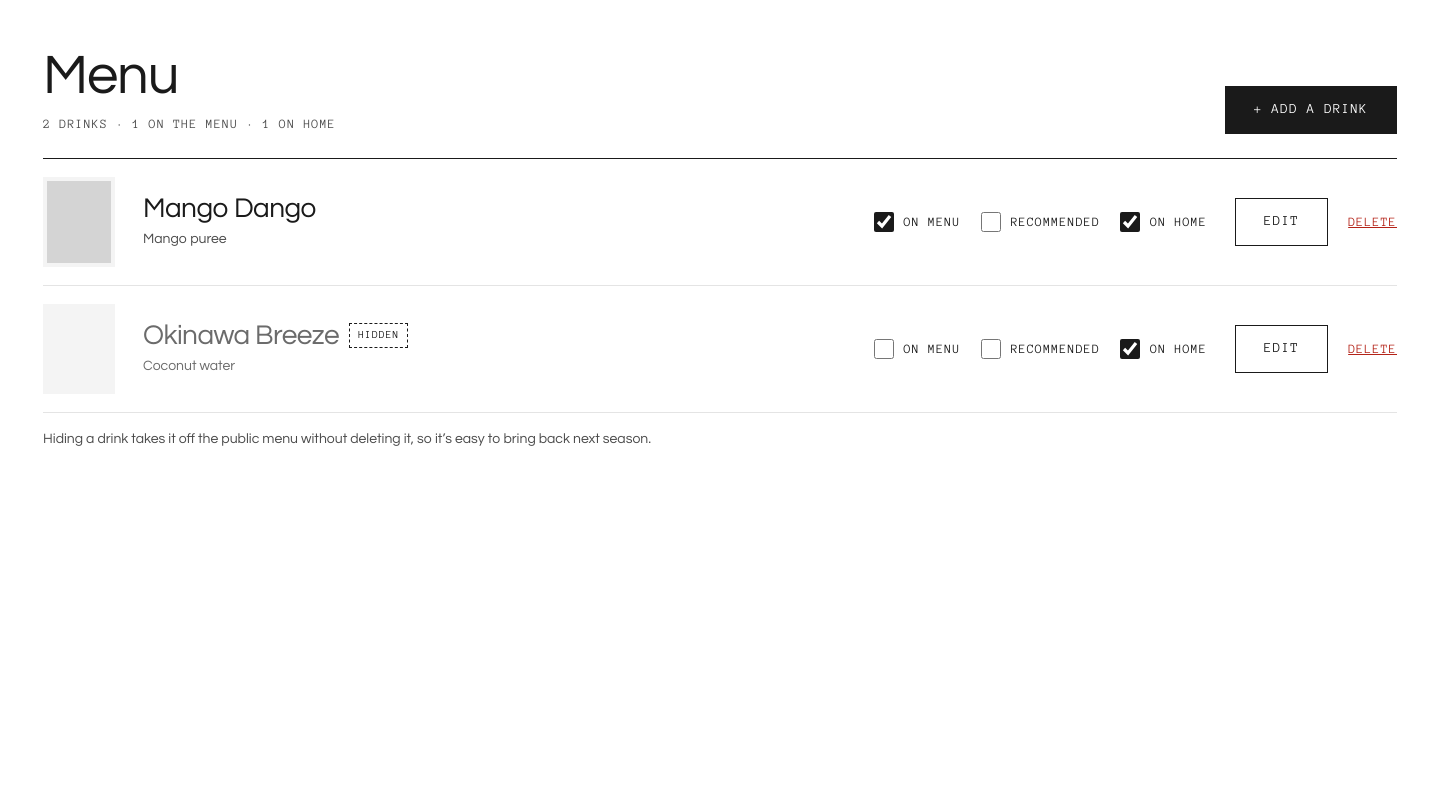
Scenario: Hide instead can’t start while a Recommended save is pending, and the drink ends up hidden
Click the checkbox named "Recommended: Mango Dango" at {"x": 991, "y": 222}, box [981, 212, 1001, 232]
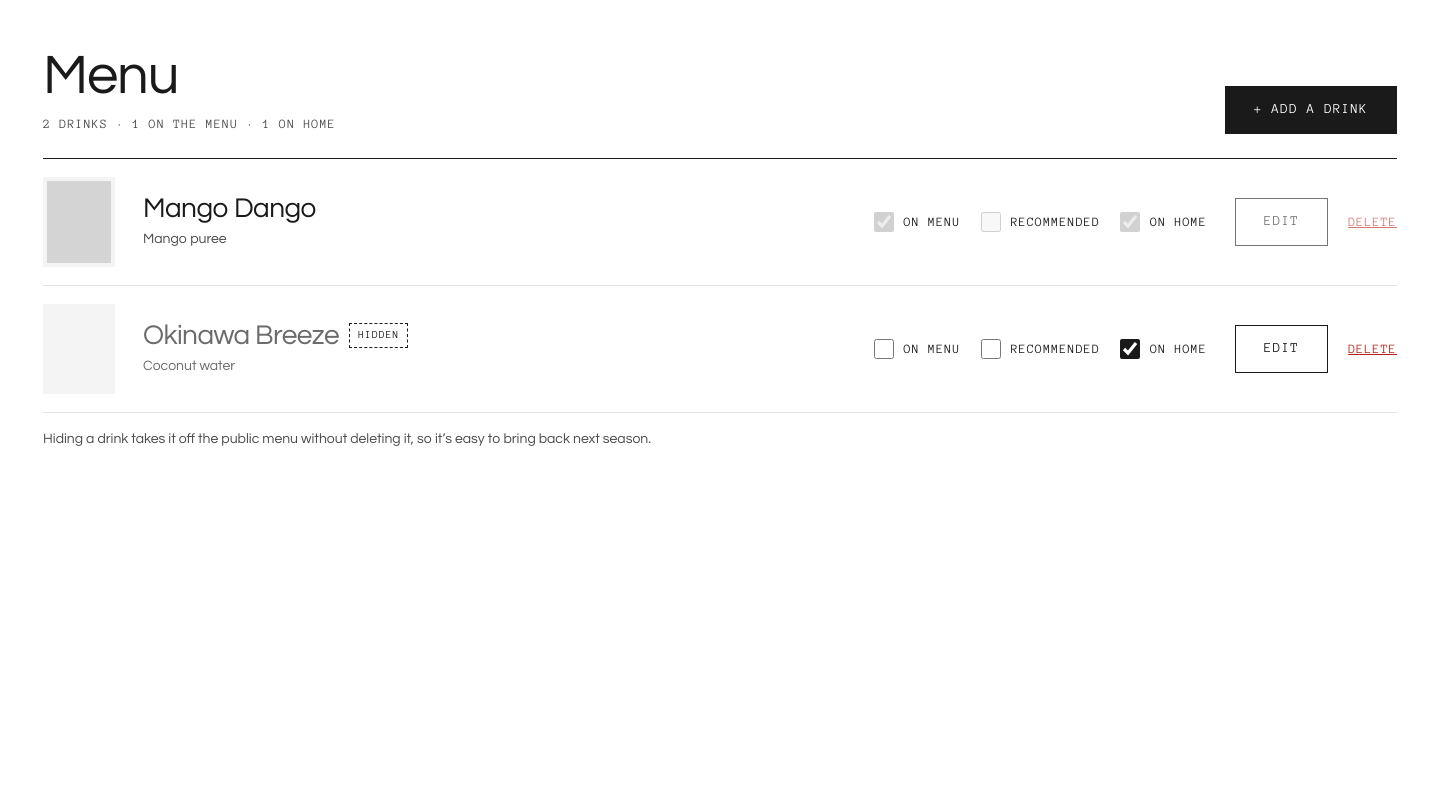
Check: the checkbox named "Recommended: Mango Dango" is disabled, box [981, 212, 1001, 232]
Check: the checkbox named "On menu: Mango Dango" is disabled, box [874, 212, 894, 232]
Check: the button named "Delete Mango Dango" is disabled
Click the button named "Delete Mango Dango" at {"x": 1373, "y": 222}, box [1348, 200, 1397, 244]
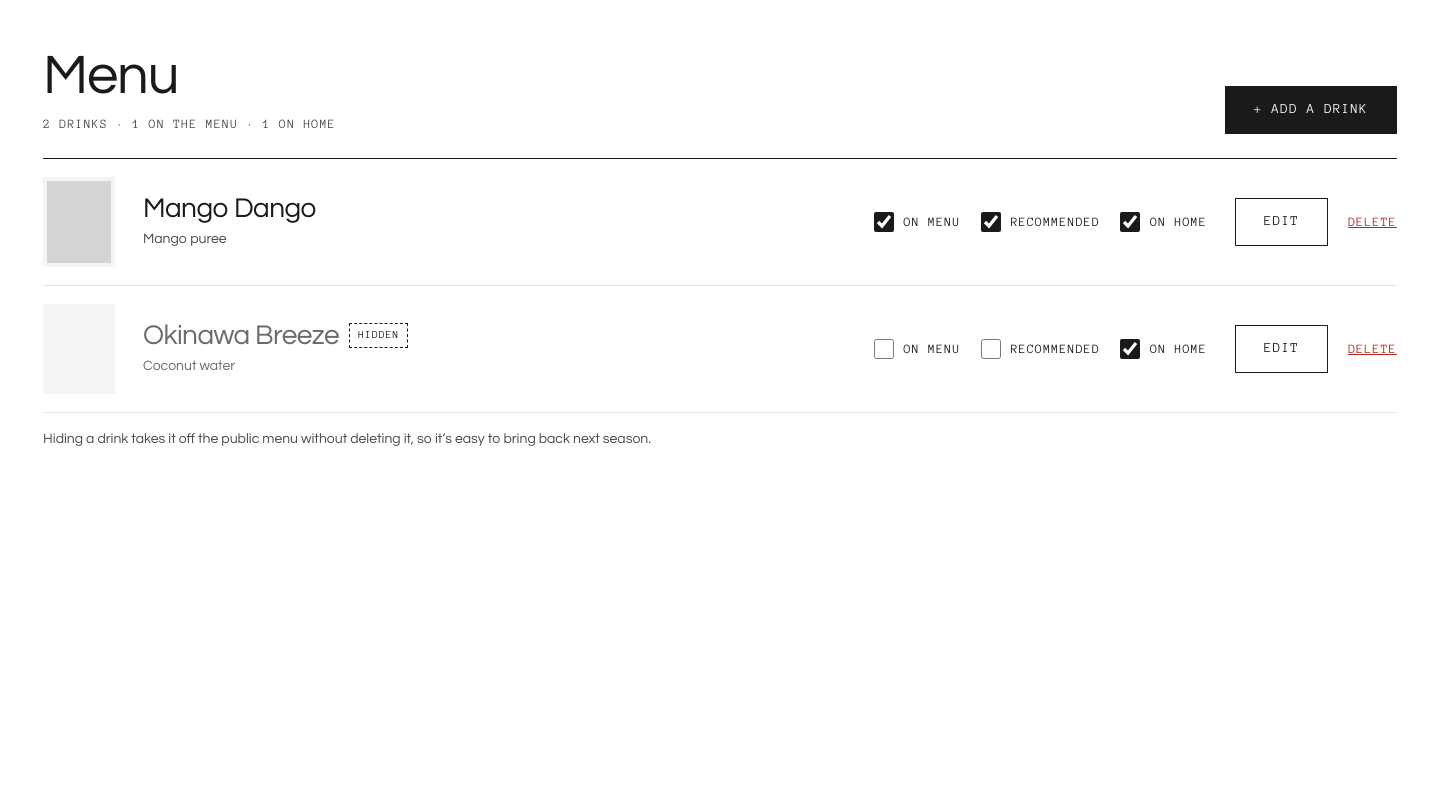
Check: the button named "Delete Okinawa Breeze" is enabled, box [1348, 326, 1397, 370]
Check: the checkbox named "Recommended: Mango Dango" is checked, box [981, 212, 1001, 232]
Check: the button named "Delete Mango Dango" is enabled
Now Hide instead can run, and once every reply is in, the drink is hidden.
Click the button named "Delete Mango Dango" at {"x": 1373, "y": 222}, box [1348, 200, 1397, 244]
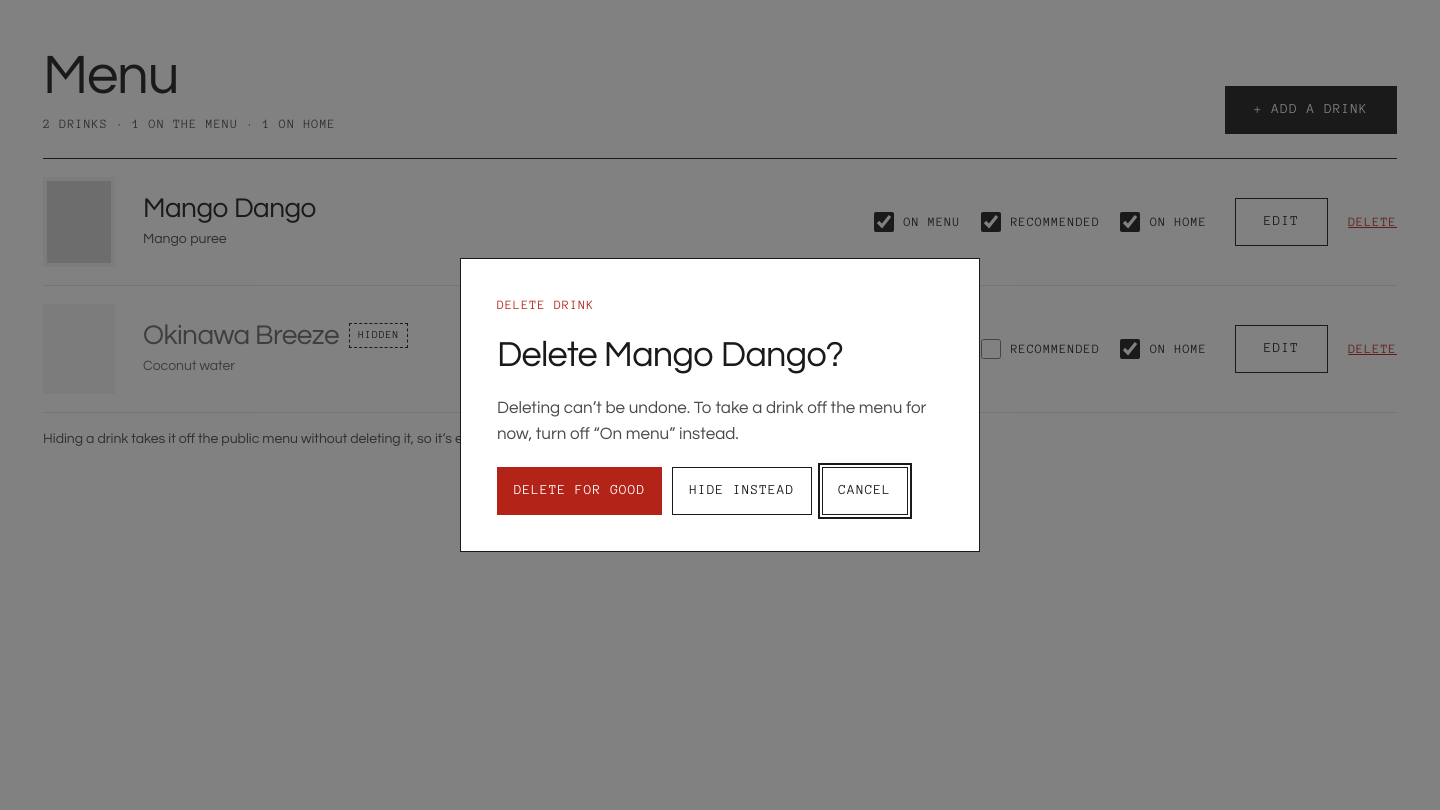
Click the button "Hide instead" at {"x": 742, "y": 491}, box [672, 467, 812, 515]
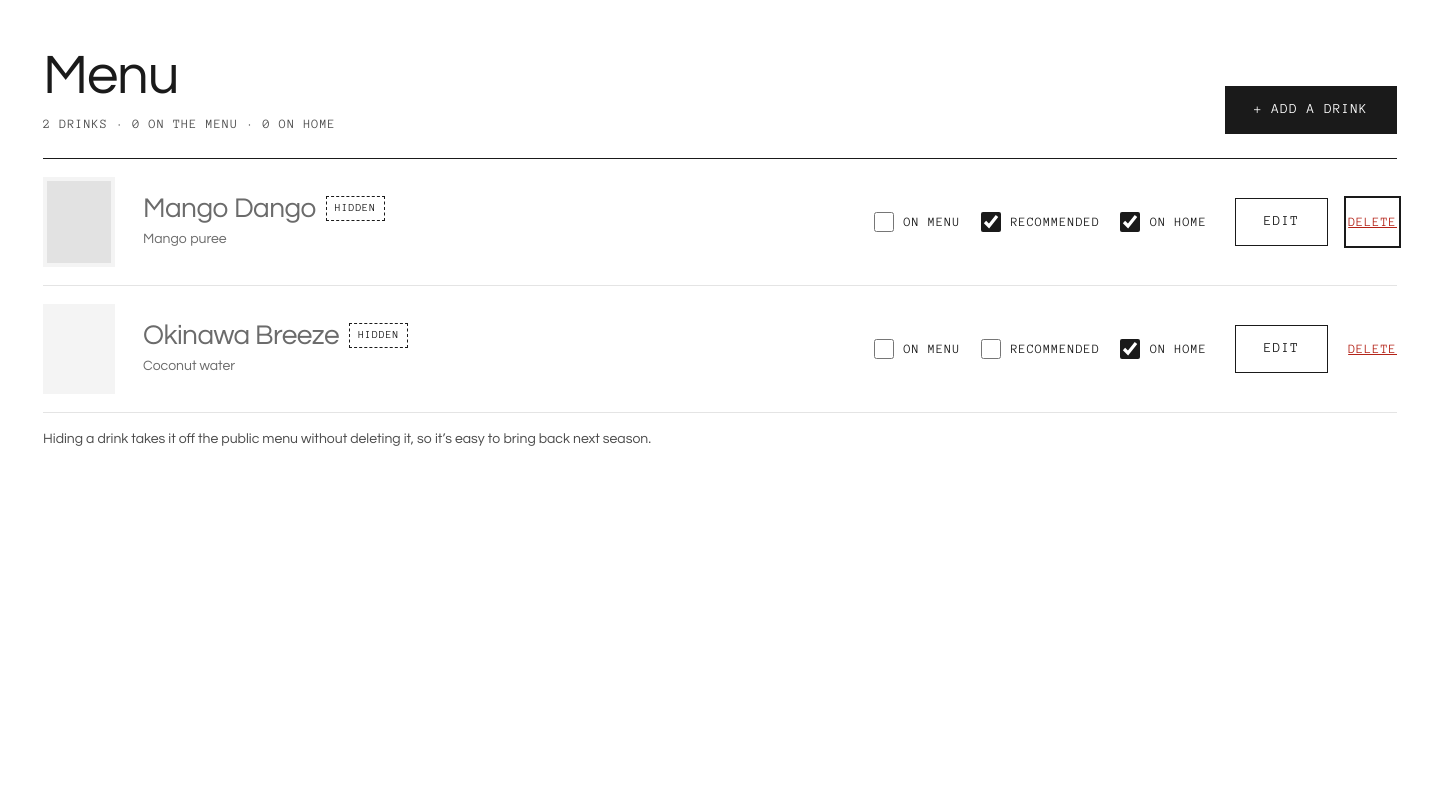
Check: the checkbox named "Recommended: Mango Dango" is checked, box [981, 212, 1001, 232]
Check: the dialog is gone
Check: the checkbox named "On menu: Mango Dango" is not checked, box [874, 212, 894, 232]
